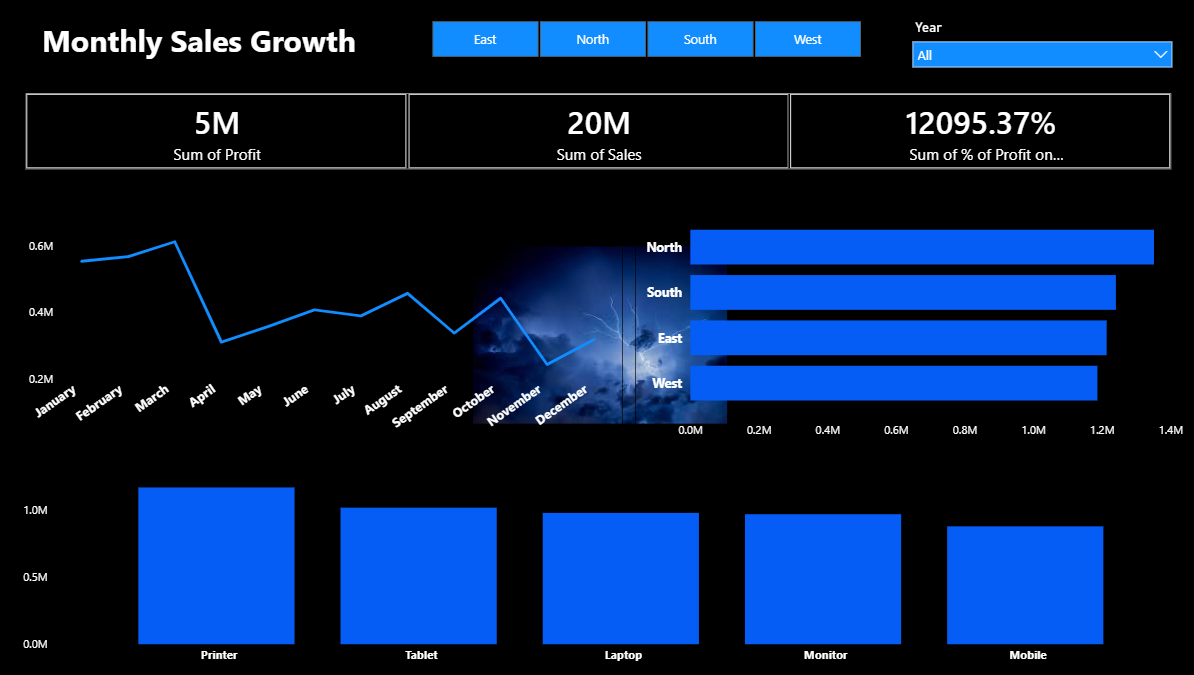

Layout of this report page (visuals, bound fields, positions):
{"tool":"powerbi","page":{"name":"Page 1","canvas":[1280,720],"ordinal":0},"visuals":[{"type":"cardVisual","fields":{"Data":["Sum(salesdb sales_data.Profit)","Sum(salesdb sales_data.Sales)","Sum(salesdb sales_data.% of Profit on Sales)"]},"box":[17.5,85.9,1245.4,109.8],"z":0},{"type":"lineChart","fields":{"Category":["salesdb sales_data.Order_Date.Variation.Date Hierarchy.Month"],"Y":["Sum(salesdb sales_data.Profit)"]},"box":[17.5,206.8,647.4,275.2],"z":1000},{"type":"barChart","fields":{"Category":["salesdb sales_data.Region"],"Y":["Sum(salesdb sales_data.Profit)"]},"box":[677.6,206.8,593.3,275.2],"z":2000},{"type":"columnChart","fields":{"Category":["salesdb sales_data.Product"],"Y":["Sum(salesdb sales_data.Profit)"]},"box":[17.5,493.1,1259.8,227.5],"z":3000},{"type":"slicer","fields":{"Values":["salesdb sales_data.Order_Date.Variation.Date Hierarchy.Year"]},"box":[956,11.1,307,63.6],"z":4000},{"type":"slicer","fields":{"Values":["salesdb sales_data.Region"]},"box":[431.1,11.1,515.4,63.6],"z":5000},{"type":"textbox","box":[17.5,11.1,396.1,63.6],"z":6000}]}

Visuals, with their boxes in screenshot pixels (x1, y1, x2, y2), scaled from the page's 1280x720 canvas onto the 1194x675 screenshot:
cardVisual - Sum(salesdb sales_data.Profit) x Sum(salesdb sales_data.Sales): 16:81:1178:183
lineChart - salesdb sales_data.Order_Date.Variation.Date Hierarchy.Month x Sum(salesdb sales_data.Profit): 16:194:620:452
barChart - salesdb sales_data.Region x Sum(salesdb sales_data.Profit): 632:194:1186:452
columnChart - salesdb sales_data.Product x Sum(salesdb sales_data.Profit): 16:462:1191:674
slicer - salesdb sales_data.Order_Date.Variation.Date Hierarchy.Year: 892:10:1178:70
slicer - salesdb sales_data.Region: 402:10:883:70
textbox: 16:10:386:70
